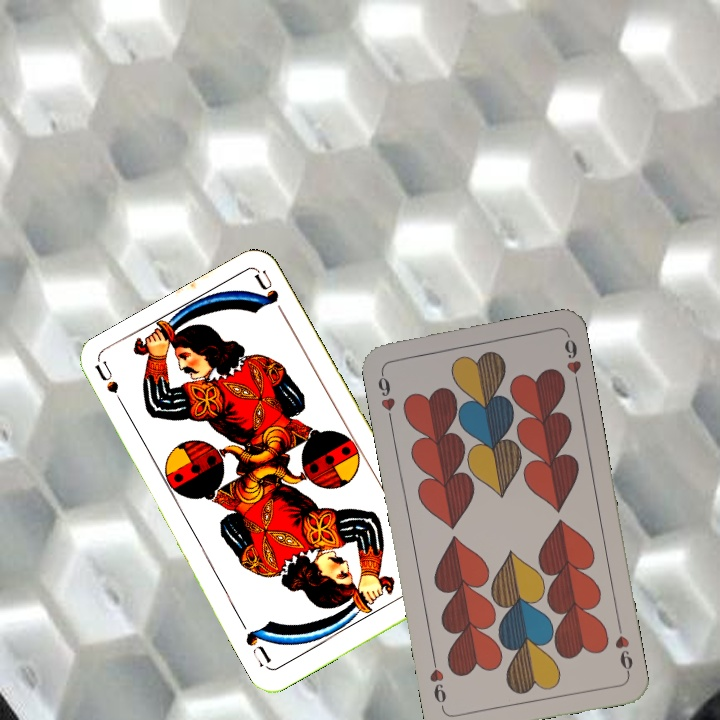H9: (611, 619, 636, 678), (374, 366, 398, 425)
SU: (92, 359, 131, 415)
